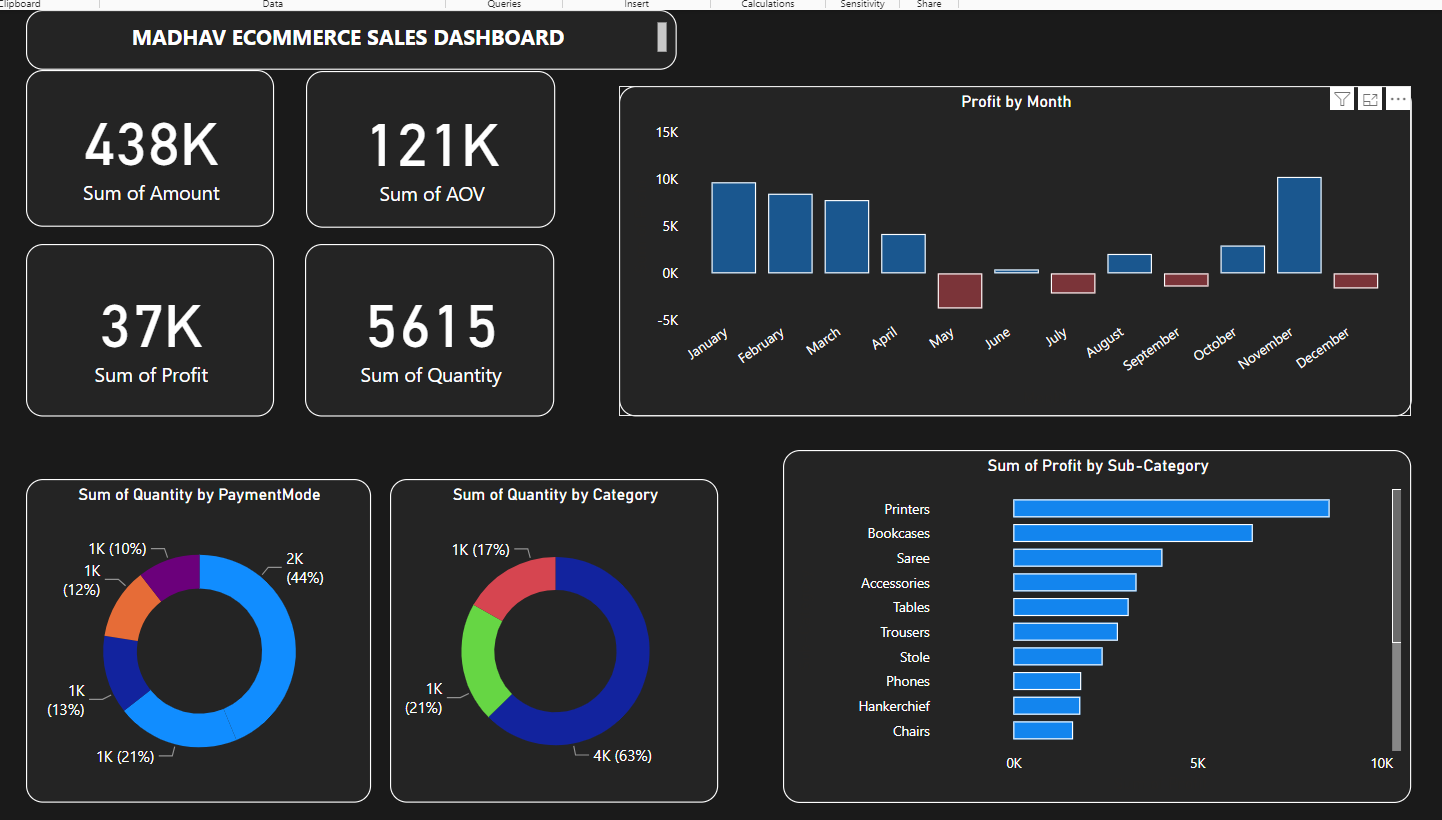

This screenshot's page, from the dashboard's own definition file:
{"tool":"powerbi","page":{"name":"Page 1","canvas":[1280,720],"ordinal":0},"visuals":[{"type":"textbox","box":[22.9,0,577.1,52.9],"z":0},{"type":"columnChart","title":" Profit by Month","fields":{"Y":["Sum(Details.Profit)"],"Category":["Orders.Order Date.Variation.Date Hierarchy.Month"]},"box":[548.6,67.1,702.9,292.9],"z":1000},{"type":"barChart","fields":{"Category":["Details.Sub-Category"],"Y":["Sum(Details.Profit)"]},"box":[694.3,390,557.1,312.9],"z":2000},{"type":"donutChart","fields":{"Category":["Details.Category"],"Y":["Sum(Details.Quantity)"]},"box":[345.7,415.7,291.4,287.1],"z":3000},{"type":"donutChart","fields":{"Category":["Details.PaymentMode"],"Y":["Sum(Details.Quantity)"]},"box":[22.9,415.7,305.7,287.1],"z":4000},{"type":"card","fields":{"Values":["Sum(Details.Amount)"]},"box":[22.9,52.9,220,138.6],"z":5000},{"type":"card","fields":{"Values":["Sum(Details.Quantity)"]},"box":[270,207.1,221.4,152.9],"z":6000},{"type":"card","fields":{"Values":["Sum(Details.Profit)"]},"box":[22.9,207.1,220,152.9],"z":7000},{"type":"card","fields":{"Values":["Sum(Details.AOV)"]},"box":[271.4,54.3,221.4,138.6],"z":8000}]}

Visuals, with their boxes in screenshot pixels (x1, y1, x2, y2):
textbox: pyautogui.locateOnScreen(29, 8, 670, 66)
" Profit by Month" columnChart: pyautogui.locateOnScreen(613, 82, 1394, 407)
barChart - Details.Sub-Category x Sum(Details.Profit): pyautogui.locateOnScreen(775, 441, 1394, 788)
donutChart - Details.Category x Sum(Details.Quantity): pyautogui.locateOnScreen(388, 469, 712, 788)
donutChart - Details.PaymentMode x Sum(Details.Quantity): pyautogui.locateOnScreen(29, 469, 369, 788)
card - Sum(Details.Amount): pyautogui.locateOnScreen(29, 66, 274, 220)
card - Sum(Details.Quantity): pyautogui.locateOnScreen(304, 238, 550, 407)
card - Sum(Details.Profit): pyautogui.locateOnScreen(29, 238, 274, 407)
card - Sum(Details.AOV): pyautogui.locateOnScreen(305, 68, 551, 222)
